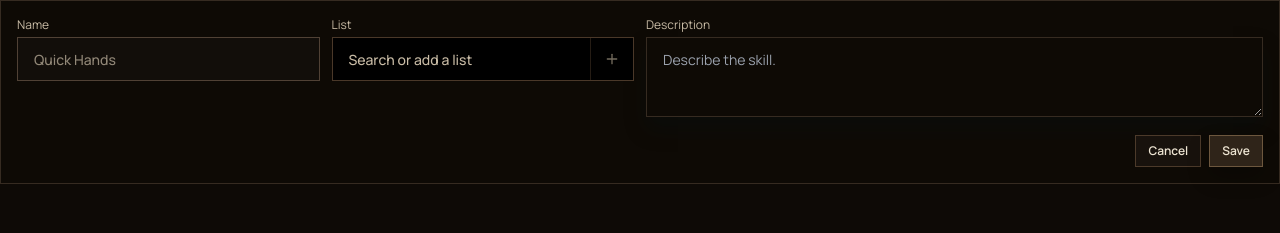
AddSkillForm: create › sends nothing while the typed list is neither chosen nor added
The width and height of the screenshot is (1280, 233).
Type "Gutter Run" into the field with placeholder "Quick Hands" at [168, 59], box [17,37,320,81]
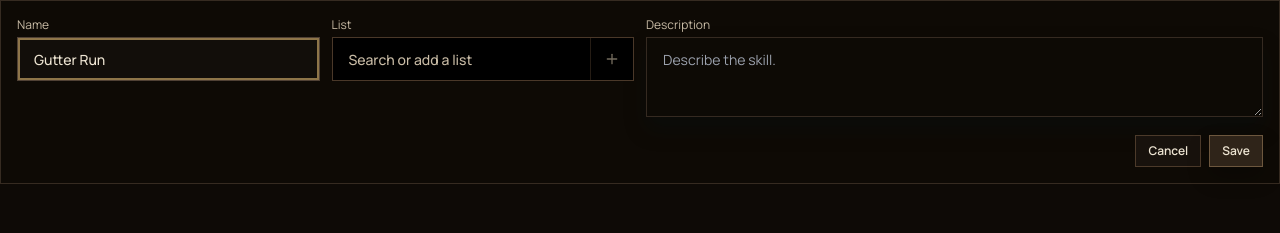
Type "Gutter" into the search field with placeholder "Search or add a list" at [483, 59], box [332,37,634,81]
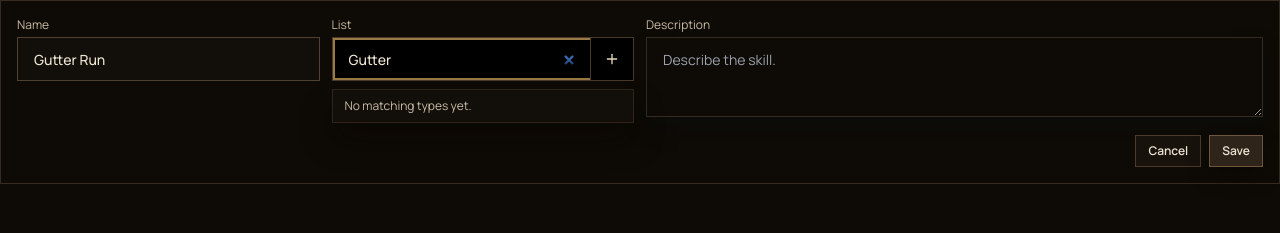
Type "Runs the gutters." into the text box with placeholder "Describe the skill." at [954, 77], box [646,37,1263,117]
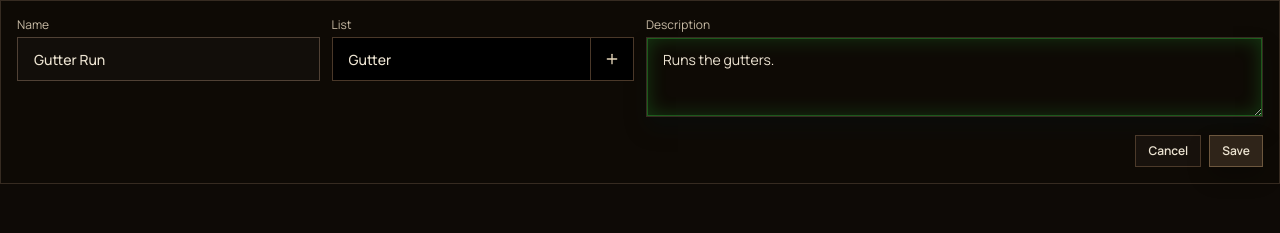
Click the button "Save" at [1236, 151], box [1209,135,1263,167]
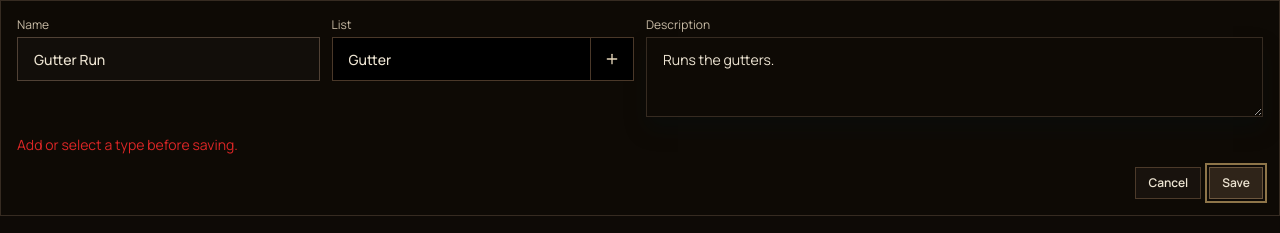
Check: the text "Add or select a type before saving." is shown, box [17,135,238,154]
